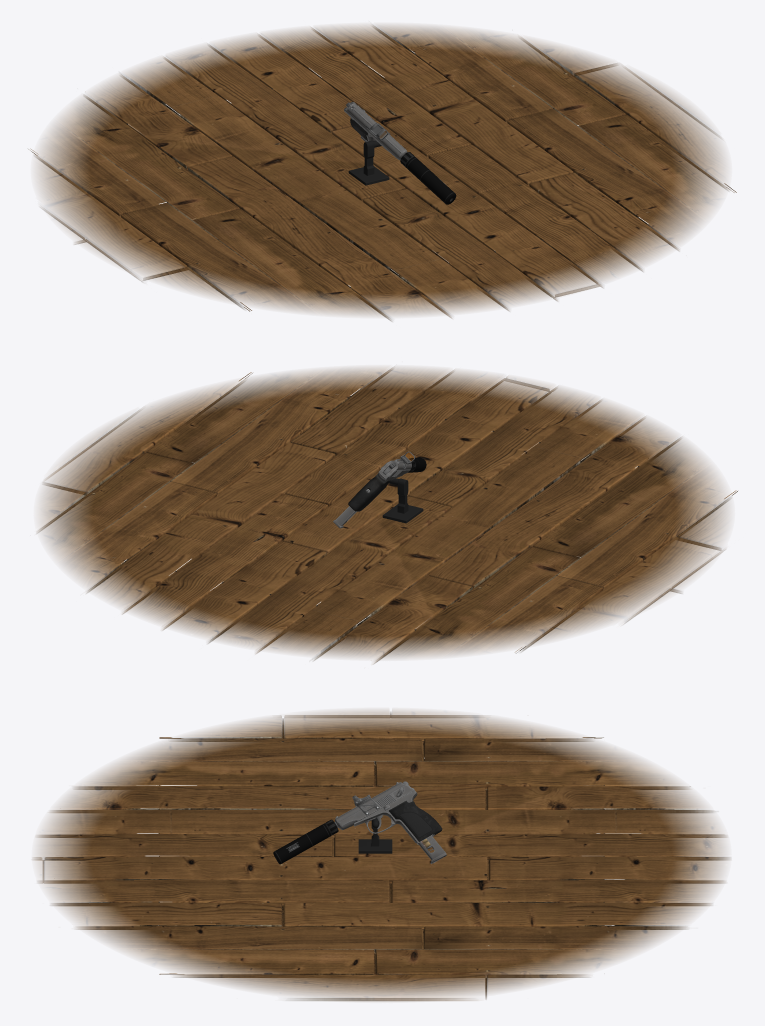
File: makarov_pm.glb
The picture shows the model from 3 angles, top to bottom: view 1: azimuth 30°, elevation 25°; view 2: azimuth 150°, elevation 25°; view 3: azimuth 270°, elevation 25°; orthographic projection.
Visible parts, largest first — view 1: Floor_13, Makarov_suppressor_10, Makarov_slide_9, Stand_14; view 2: Floor_13, Stand_14, Makarov_base_12; view 3: Floor_13, Makarov_base_12, Makarov_slide_9, Makarov_suppressor_10, Stand_14.
Boxes of the visible parts, x1,y1,x2,y2 form: Floor_13: [28, 24, 736, 321]; Makarov_suppressor_10: [400, 152, 456, 204]; Makarov_slide_9: [344, 102, 407, 160]; Stand_14: [348, 140, 389, 185]; Floor_13: [37, 366, 737, 663]; Stand_14: [382, 478, 423, 523]; Makarov_base_12: [348, 463, 405, 511]; Floor_13: [33, 710, 730, 1001]; Makarov_base_12: [334, 790, 442, 844]; Makarov_slide_9: [335, 782, 414, 830]; Makarov_suppressor_10: [273, 819, 338, 864]; Stand_14: [358, 818, 392, 853].
Size of the model in its own units: 1.36 by 0.138 by 1.36.
4 materials, 3 textured.
